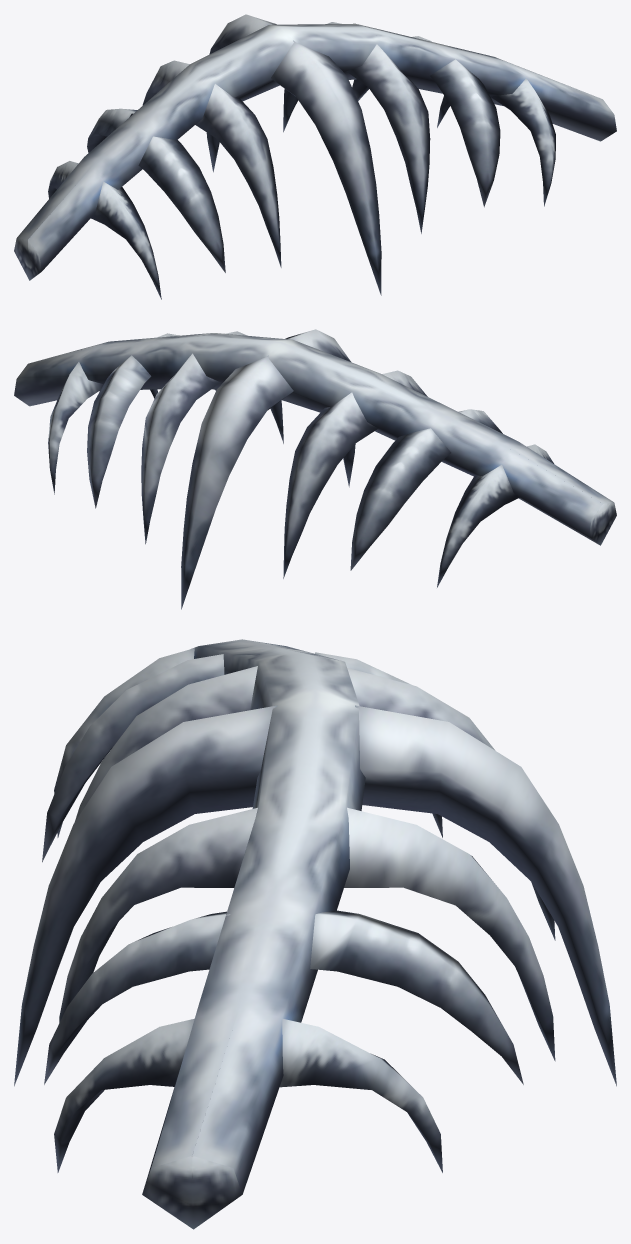
The model's file is LGhuangyuan_longgu03.FBX.
The picture shows the model from 3 angles, top to bottom: view 1: azimuth 30°, elevation 25°; view 2: azimuth 150°, elevation 25°; view 3: azimuth 270°, elevation 25°; orthographic projection. The views are drawn at different scales.
Visible parts, largest first — view 1: LGhuangyuan_longgu03; view 2: LGhuangyuan_longgu03; view 3: LGhuangyuan_longgu03.
Boxes of the visible parts, <box> form: LGhuangyuan_longgu03: <box>14,14,616,299</box>; LGhuangyuan_longgu03: <box>14,329,616,609</box>; LGhuangyuan_longgu03: <box>14,639,616,1229</box>.
Size of the model in its own units: 206 by 104 by 72.21.
